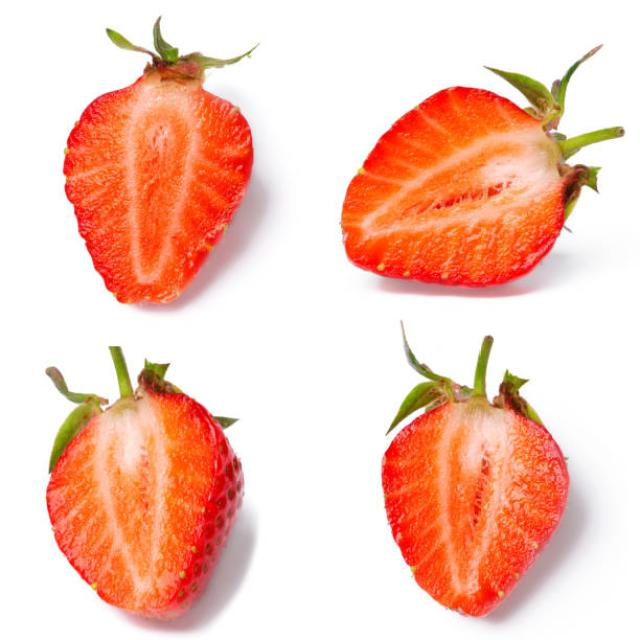Healthy Fruit: (48, 385, 244, 619), (342, 89, 566, 285), (63, 74, 251, 306), (378, 398, 566, 618)
